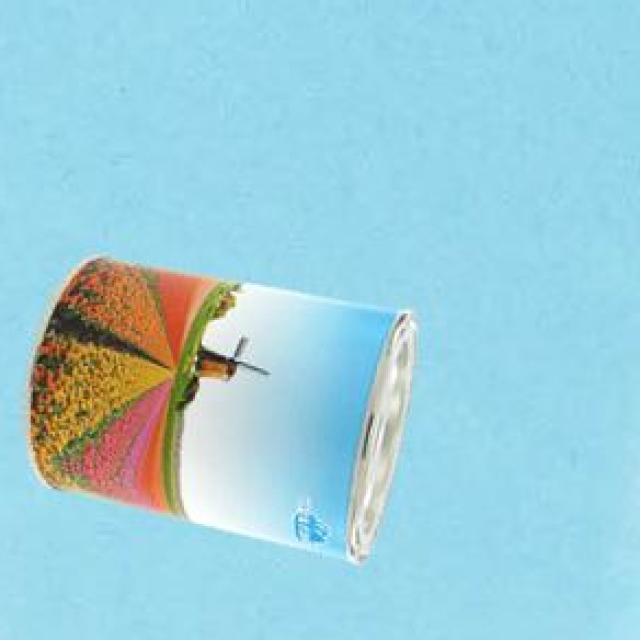logam: (21, 260, 413, 567)
